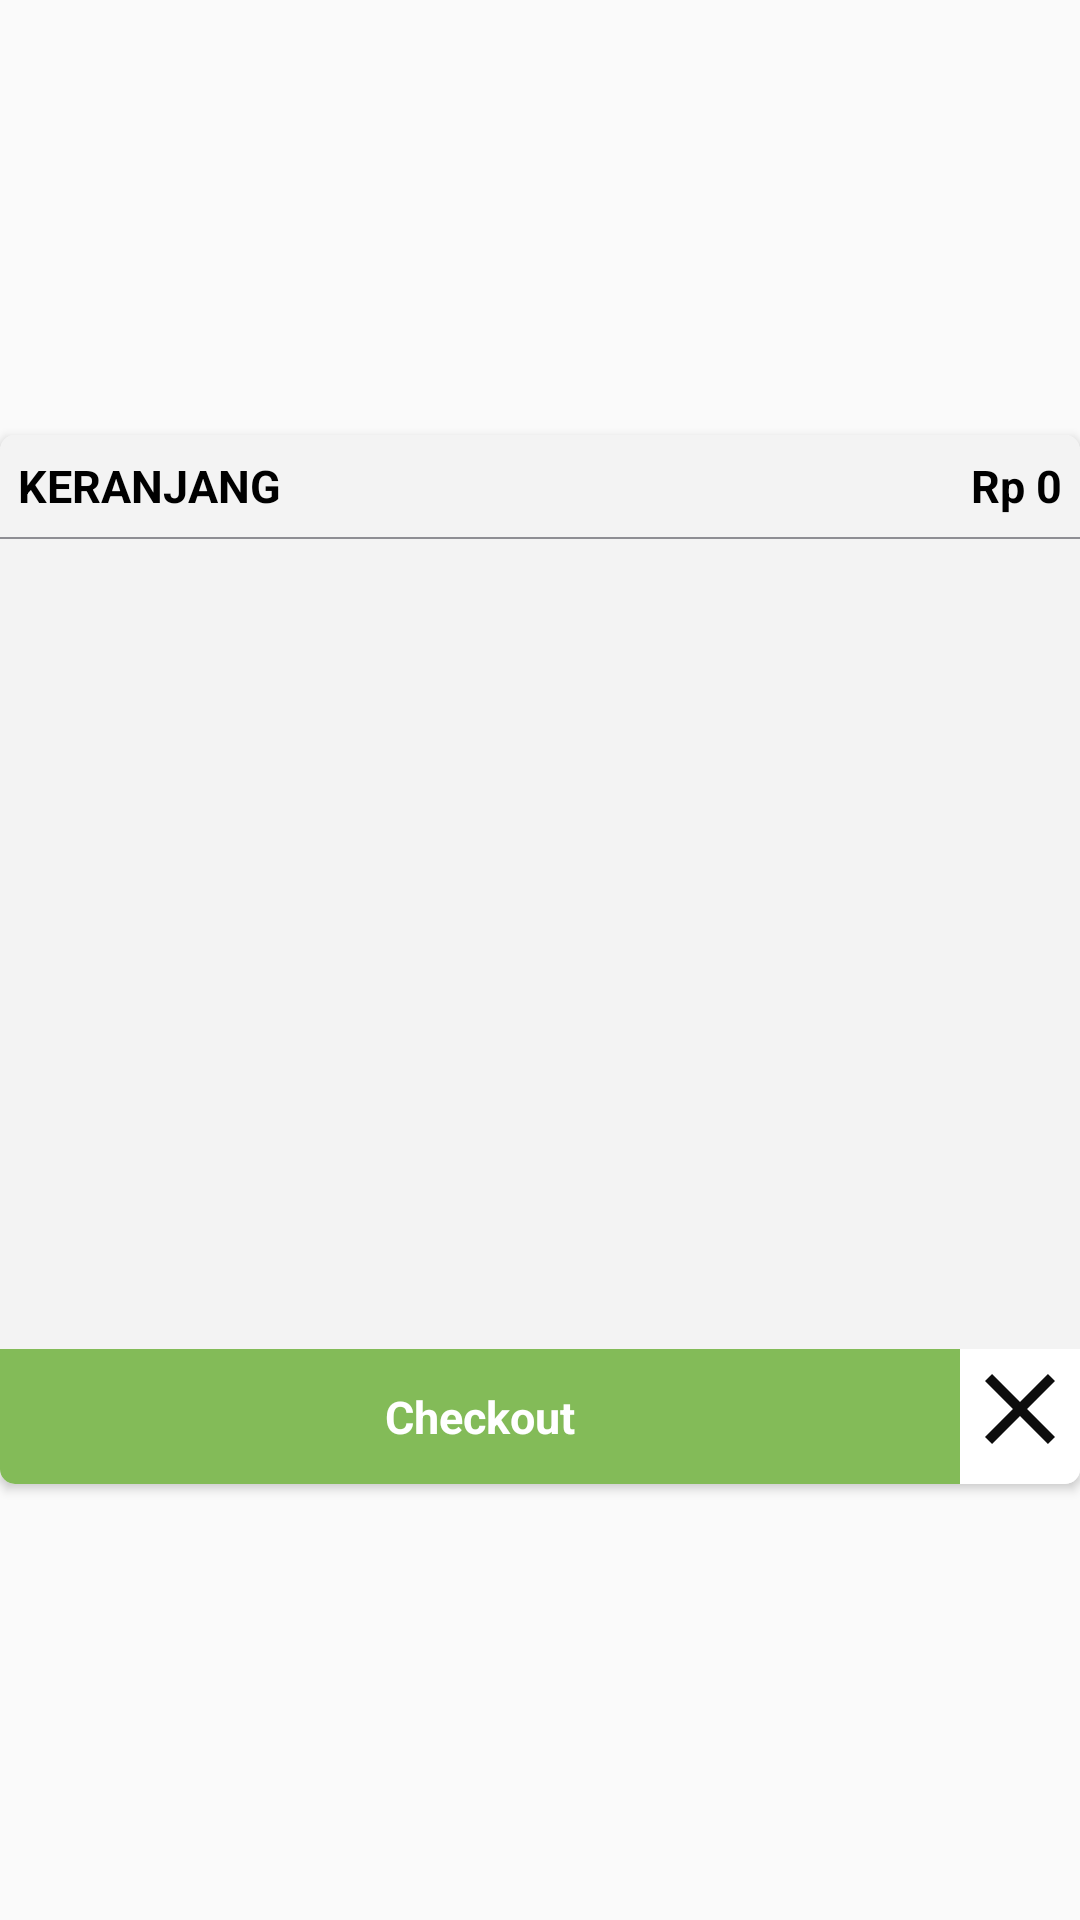

Where to tap for icons on this 1080×1920 app screen, as point (x, y):
close: point (1020, 1409)
